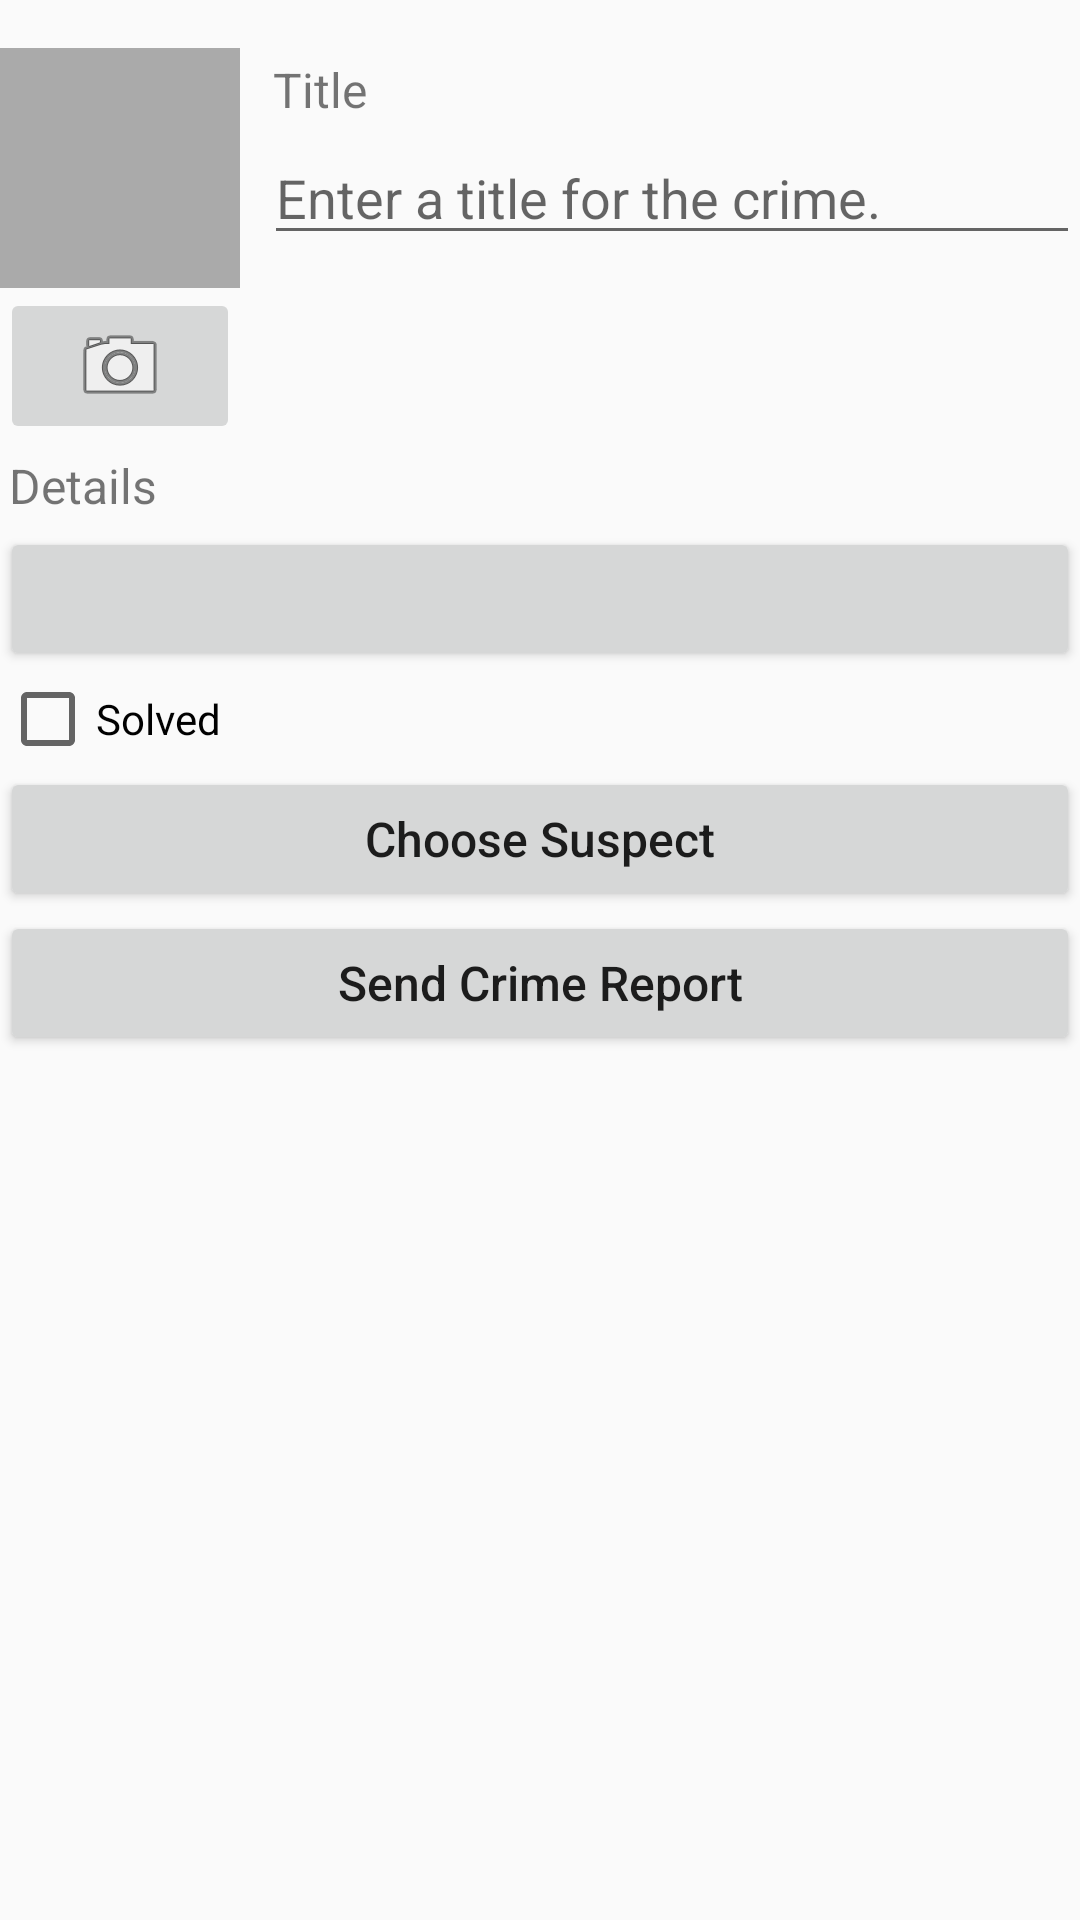

Point at icon controls on the screen. Image size 1080px x 1920px, points as (x,y).
camera: (120,366)
